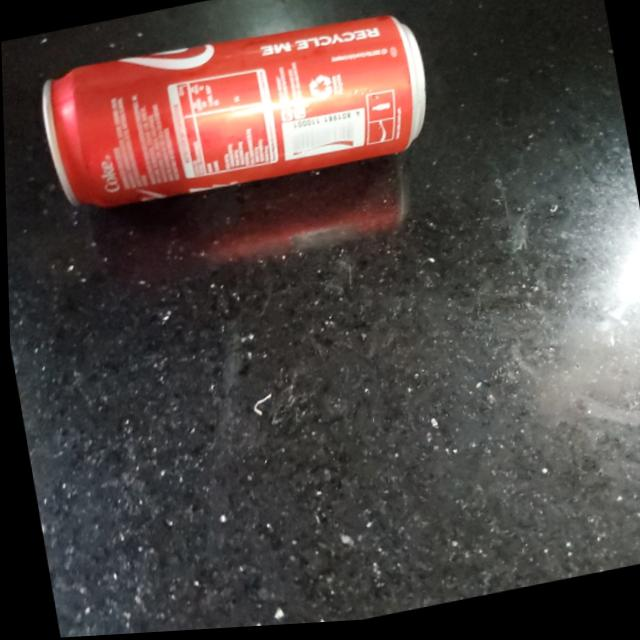coke: (35, 9, 438, 229)
